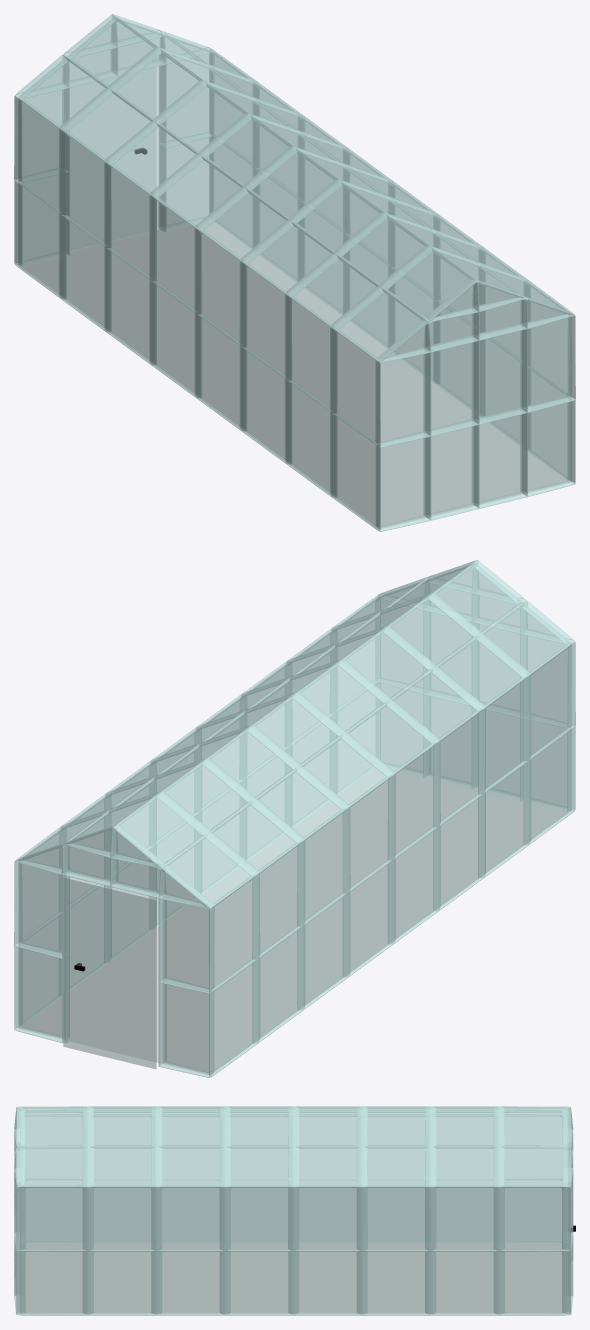
File: Greenhouse.fbx
The picture shows the model from 3 angles, top to bottom: view 1: azimuth 30°, elevation 25°; view 2: azimuth 150°, elevation 25°; view 3: azimuth 270°, elevation 25°; orthographic projection. The views are drawn at different scales.
Parts seen in each view (by area): view 1: Greenhosue, Plane, Door; view 2: Greenhosue, Plane, Door; view 3: Greenhosue, Plane.
Part boxes in pixels (x1,y1,x2,y2): Greenhosue: [14, 14, 575, 531]; Plane: [19, 220, 571, 529]; Door: [70, 67, 156, 250]; Greenhosue: [14, 560, 575, 1077]; Plane: [18, 766, 570, 1075]; Door: [63, 878, 156, 1069]; Greenhosue: [14, 1106, 573, 1315]; Plane: [19, 1243, 568, 1313].
Size of the model in its own units: 4001 by 4447 by 12997.
